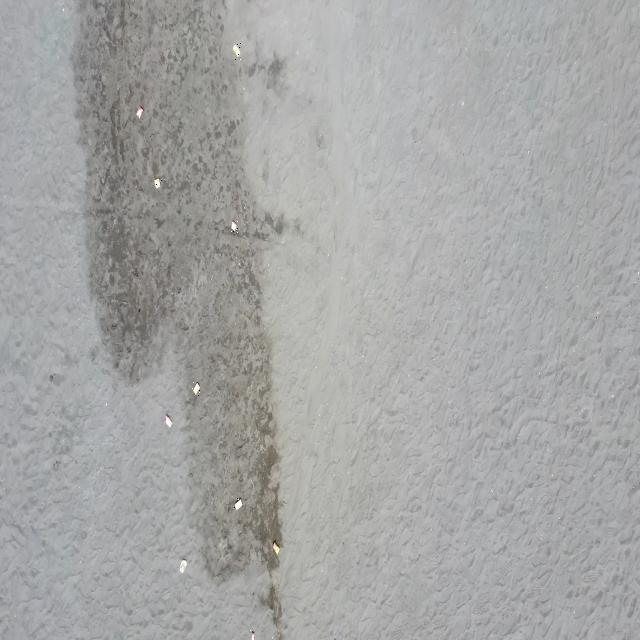retort-pouch: (179, 556, 188, 575), (232, 42, 241, 60), (234, 496, 243, 512), (192, 380, 200, 397), (166, 412, 173, 430), (154, 175, 162, 190), (274, 541, 282, 556), (230, 219, 238, 234), (137, 105, 144, 119), (250, 629, 256, 640)
